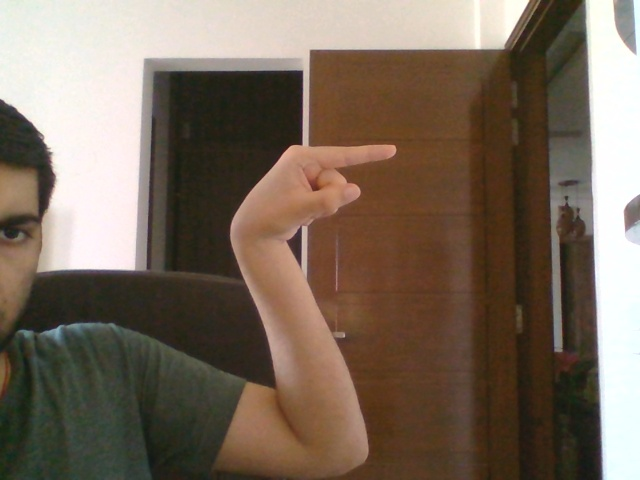LetterG: (227, 144, 398, 245)
